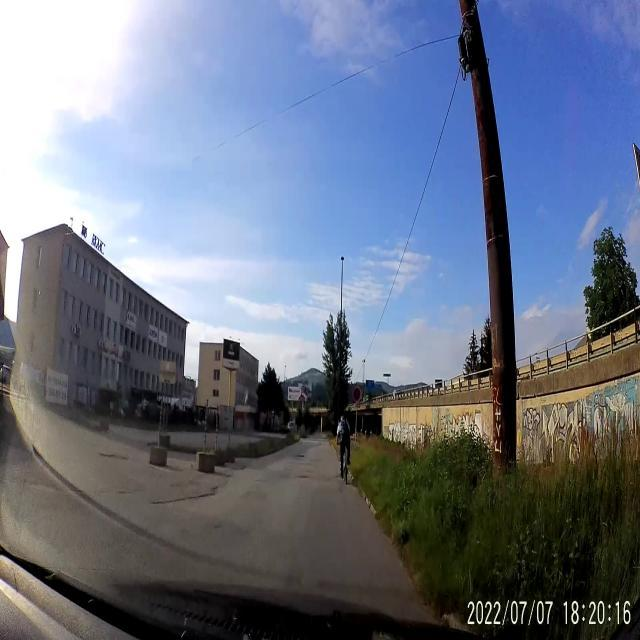Pothole: (296, 471, 310, 484), (294, 451, 308, 461)
